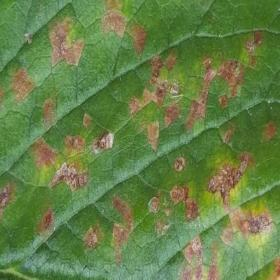Angular Leafspot: (0, 0, 279, 279)
